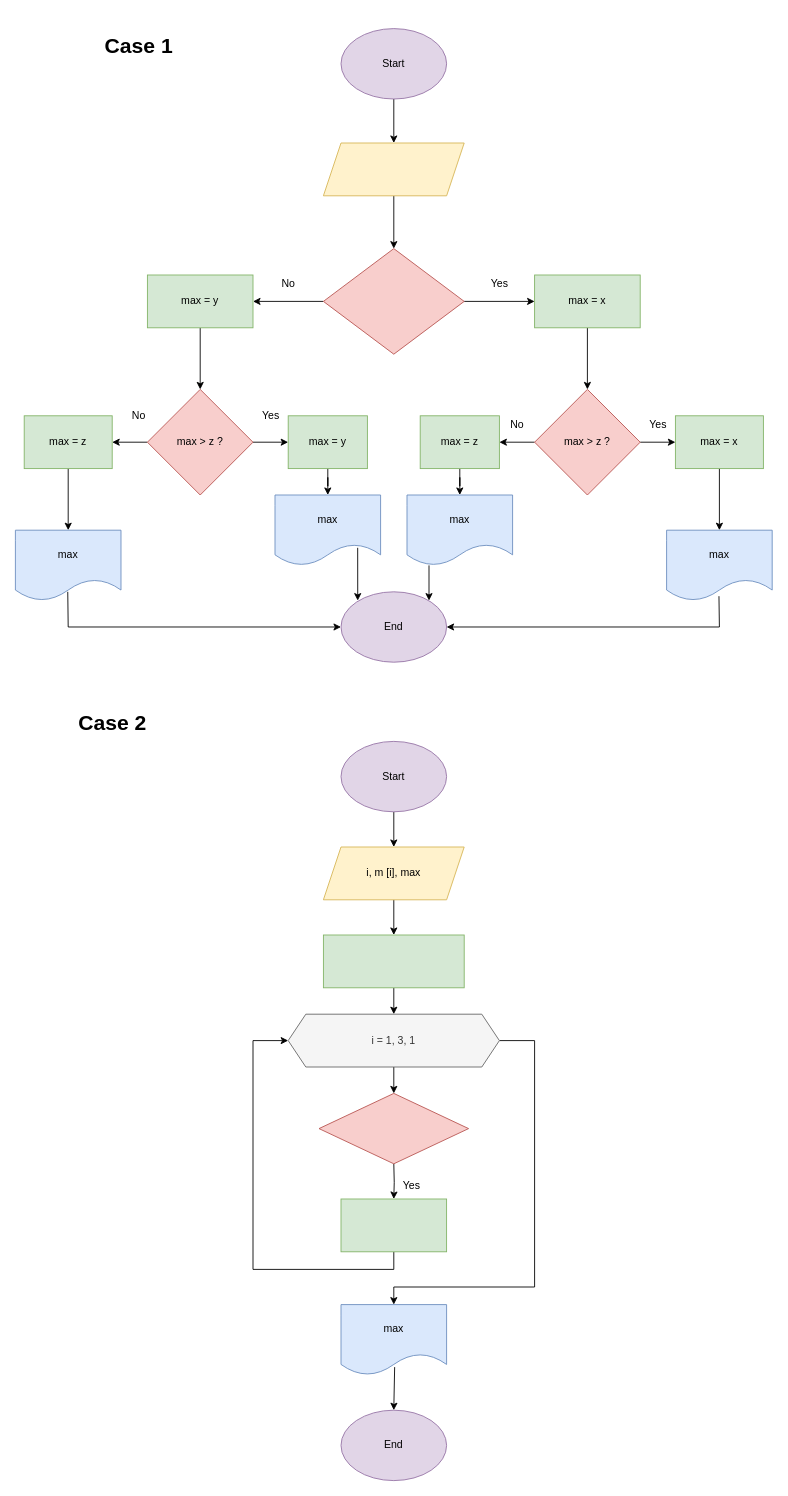
This 788x1496 diagram has some shape labels left out. Each missing label, with the centre of its shape:
m [i] > max: point (393, 1128)
max = m [0]: point (393, 961)
max = m [i]: point (393, 1225)
x > y ?: point (393, 301)
x, y, z, max: point (393, 169)
